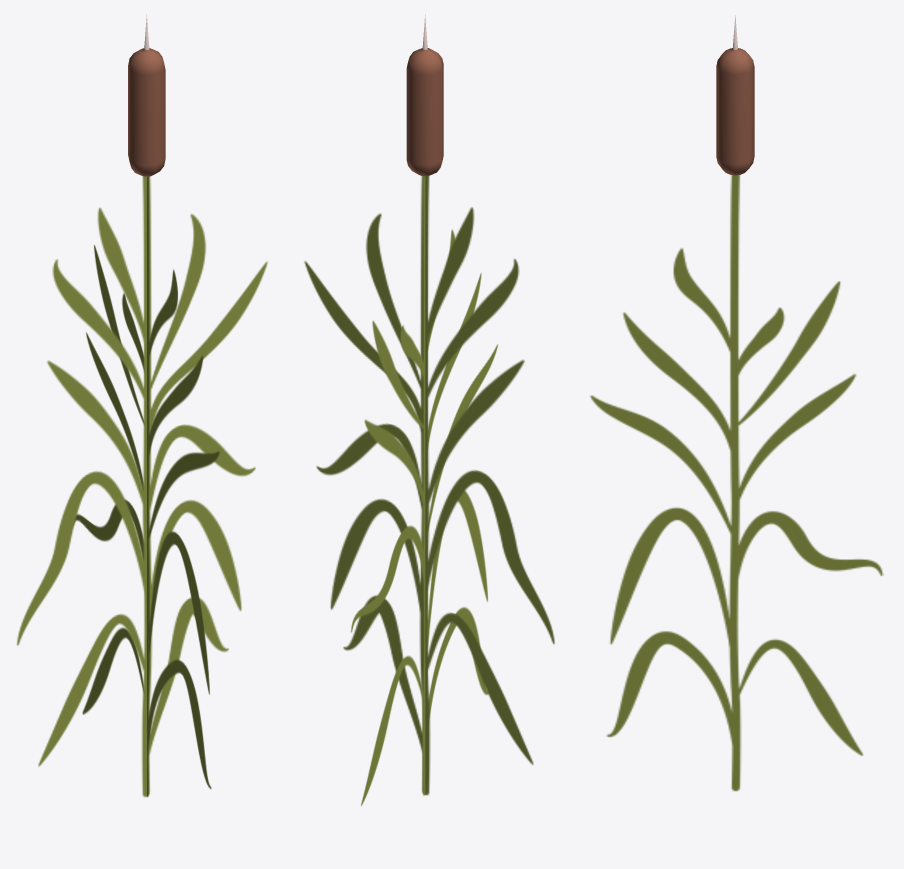
The model's file is CatTail_1.gltf.
3 renders of one model, left to right at view 1: azimuth 30°, elevation 25°; view 2: azimuth 150°, elevation 25°; view 3: azimuth 270°, elevation 25°, orthographic.
Parts seen in each view (by area): view 1: Cat_Tail_1; view 2: Cat_Tail_1; view 3: Cat_Tail_1.
Boxes of the visible parts, x1,y1,x2,y2 form: Cat_Tail_1: [17, 14, 267, 797]; Cat_Tail_1: [304, 14, 554, 805]; Cat_Tail_1: [590, 15, 883, 791].
Bounding box in the file's own units: 0.5628 × 1.64 × 0.5782.
1 material, 1 textured.
